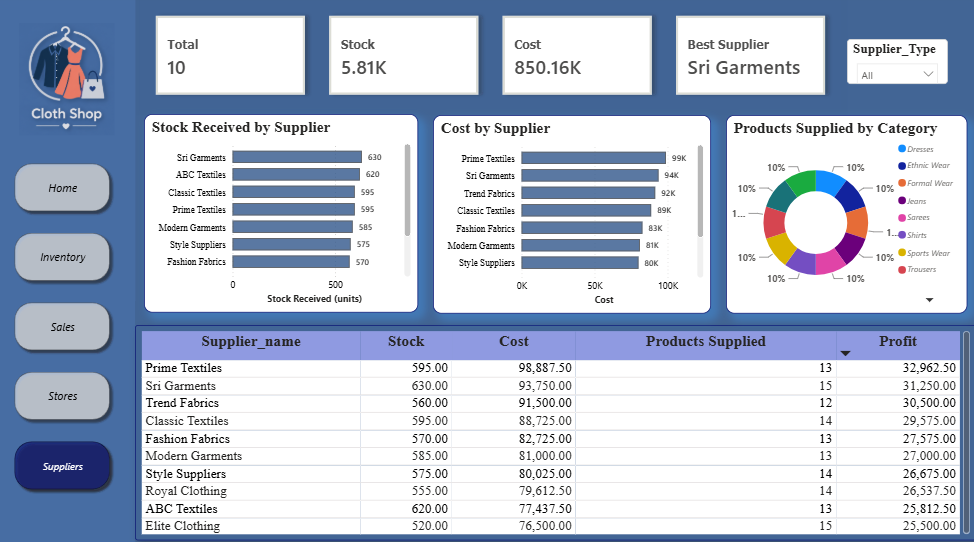

This screenshot's page, from the dashboard's own definition file:
{"tool":"powerbi","page":{"name":"Suppliers","canvas":[1280,720],"ordinal":4},"visuals":[{"type":"shape","box":[0,1.7,179.7,719],"z":0},{"type":"pageNavigator","box":[14,213,139.9,443],"z":1000},{"type":"cardVisual","fields":{"Data":["SUPPLIERS.Total","SUPPLIERS.stock","SUPPLIERS.total cost","SUPPLIERS.Best Supplier"]},"box":[180,1,931.7,155.5],"z":2000},{"type":"barChart","title":"Stock Received by Supplier","fields":{"Category":["SUPPLIERS.SUPPLIER_NAME"],"Y":["SUPPLIERS.Total stock received"]},"box":[191.4,155.5,358.9,259.8],"z":3000},{"type":"tableEx","title":"SUpplier Performance S","fields":{"Values":["SUPPLIERS.SUPPLIER_NAME","SUPPLIERS.stock","SUPPLIERS.total cost","SUPPLIERS.products supplied","SUPPLIERS.Profit"]},"box":[179.4,432.4,1100.6,282],"z":4000},{"type":"clusteredBarChart","title":"Cost by Supplier","fields":{"Category":["SUPPLIERS.SUPPLIER_NAME"],"Y":["SUPPLIERS.total cost"]},"box":[569.1,157.2,364,259.8],"z":5000},{"type":"donutChart","title":"Products Supplied by Category","fields":{"Y":["SUPPLIERS.products supplied"],"Category":["PRODUCTS.CATEGORY"]},"box":[953.6,157.2,316.2,259.8],"z":6000},{"type":"slicer","title":"Supplier_Type","fields":{"Values":["SUPPLIERS.SUPPLIER_TYPE"]},"box":[1111.7,57.6,132.5,59],"z":7000},{"type":"image","box":[10.1,36,158.4,146.9],"z":8000}]}

Visuals, with their boxes in screenshot pixels (x1, y1, x2, y2), scaled from the page's 1280x720 canvas onto the 974x542 screenshot:
shape: (x1=0, y1=1, x2=137, y2=541)
pageNavigator: (x1=11, y1=160, x2=117, y2=494)
cardVisual - SUPPLIERS.Total x SUPPLIERS.stock: (x1=137, y1=1, x2=846, y2=118)
"Stock Received by Supplier" barChart: (x1=146, y1=117, x2=419, y2=313)
"SUpplier Performance S" tableEx: (x1=137, y1=326, x2=973, y2=538)
"Cost by Supplier" clusteredBarChart: (x1=433, y1=118, x2=710, y2=314)
"Products Supplied by Category" donutChart: (x1=726, y1=118, x2=966, y2=314)
"Supplier_Type" slicer: (x1=846, y1=43, x2=947, y2=88)
image: (x1=8, y1=27, x2=128, y2=138)
